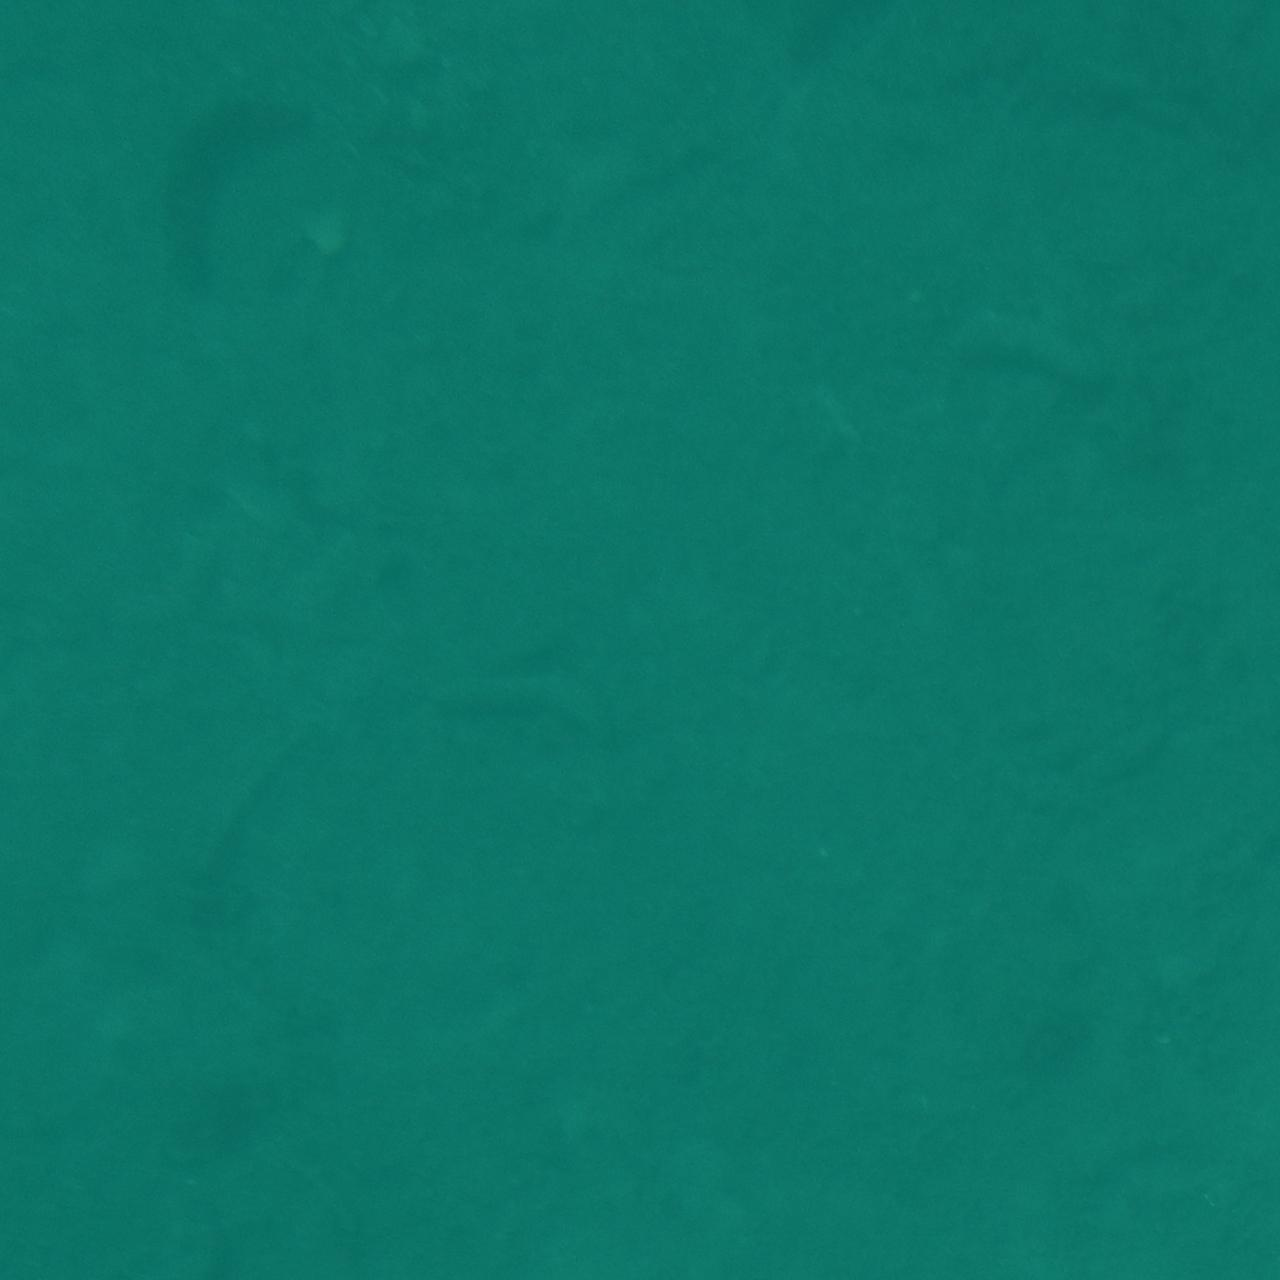Holothuria tubulosa: (132, 84, 377, 304), (437, 663, 678, 763), (924, 294, 1126, 410)
